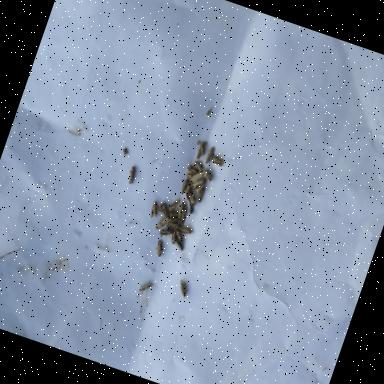pbw: (121, 163, 140, 186), (150, 237, 168, 260), (201, 144, 219, 167), (144, 199, 162, 221), (175, 279, 193, 300), (172, 197, 187, 220), (176, 205, 190, 227), (198, 167, 216, 184), (155, 213, 170, 232), (186, 188, 200, 208), (137, 280, 154, 296), (209, 152, 227, 167), (166, 196, 181, 214), (189, 168, 204, 185), (194, 180, 206, 200), (196, 186, 208, 205), (195, 140, 206, 160), (176, 224, 194, 236), (158, 225, 174, 238), (179, 177, 189, 195), (159, 202, 171, 214), (166, 220, 178, 231), (192, 160, 204, 171), (168, 216, 180, 226), (186, 164, 198, 174), (169, 232, 178, 245), (166, 210, 178, 219), (186, 203, 195, 215), (185, 172, 195, 179)
